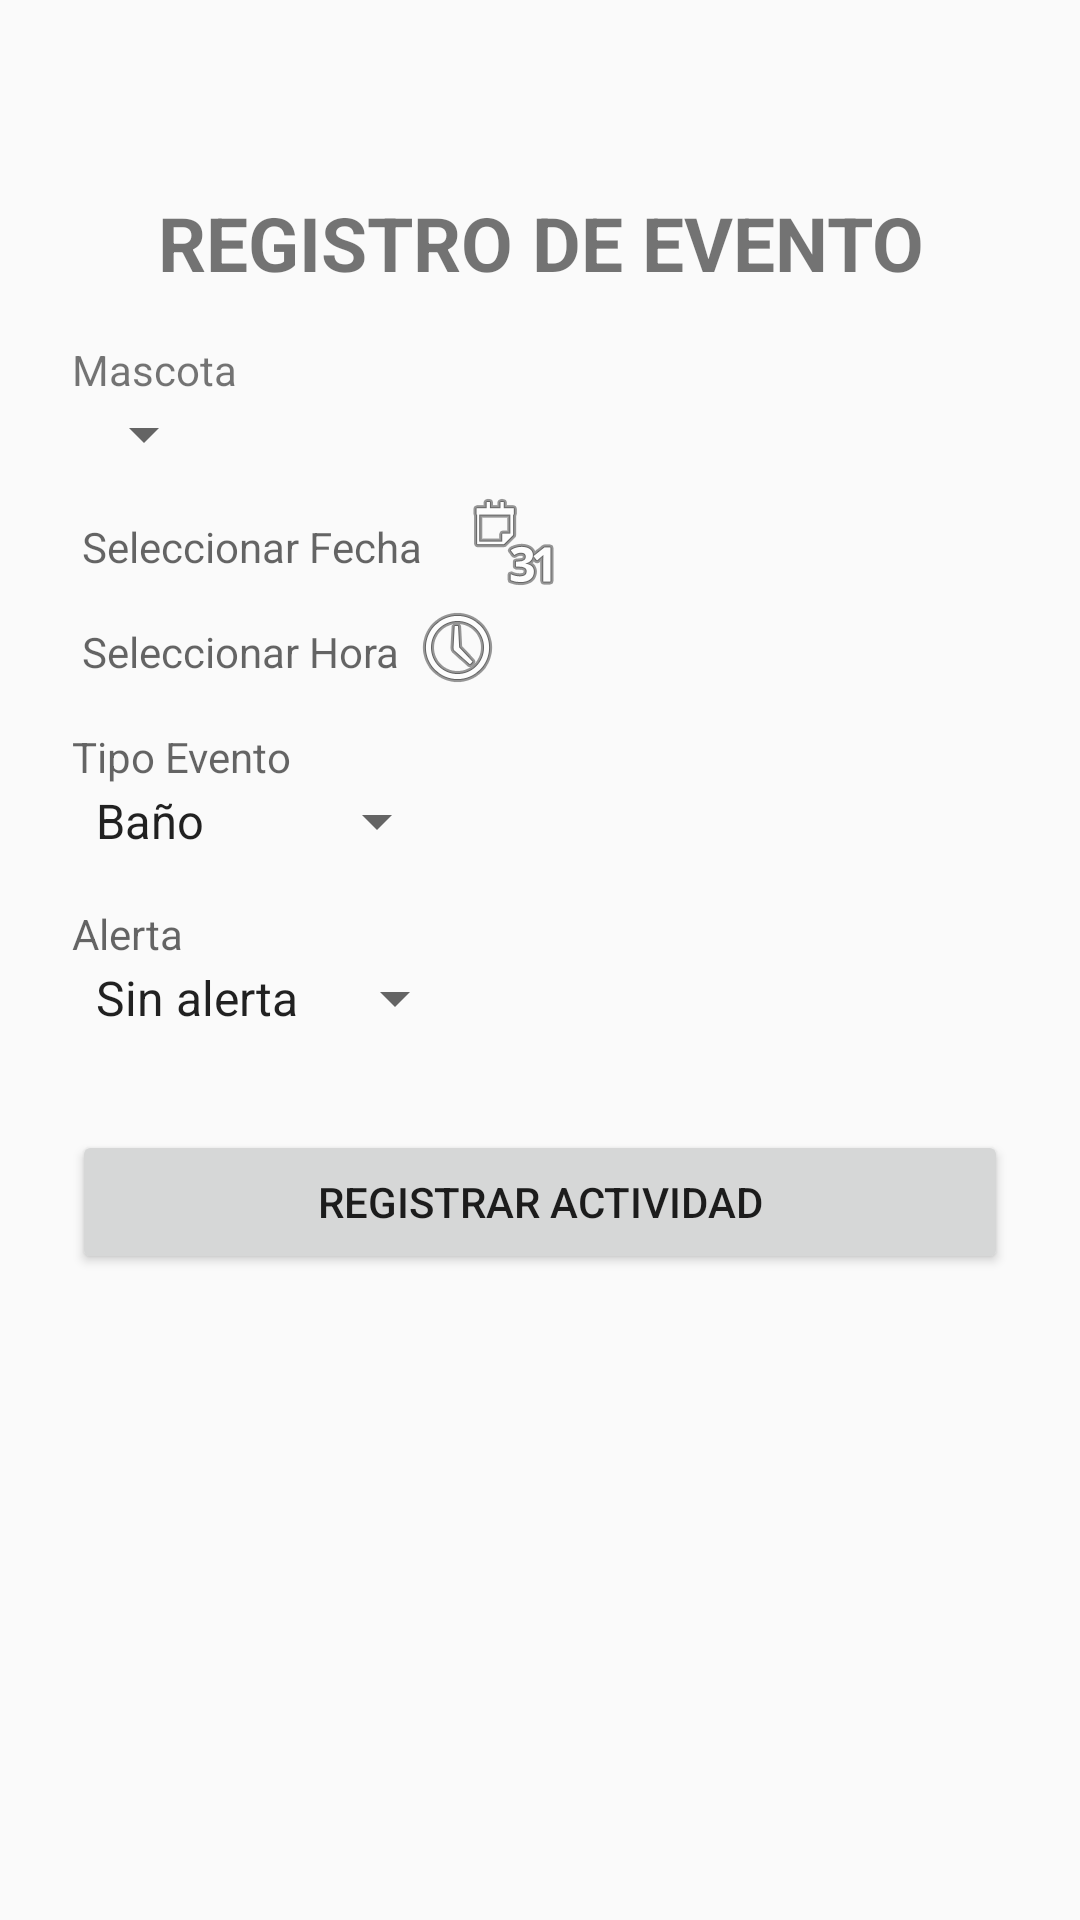

Locate icon controls on the screen. Image size 1080×1920, boxes as (x1, y1, x2, y2).
month: (473, 499, 554, 585)
recent history: (423, 613, 492, 682)
